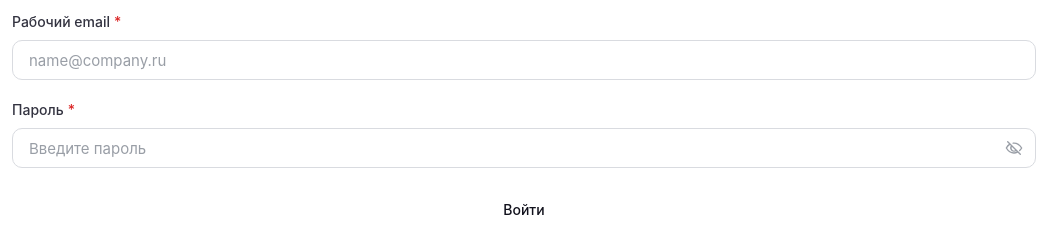
LoginForm — server errors › кнопка Войти показывает loading во время submit
Type "user@example.com" into the field labelled "Рабочий email *" at (524, 60), box 12,40 -> 1036,80
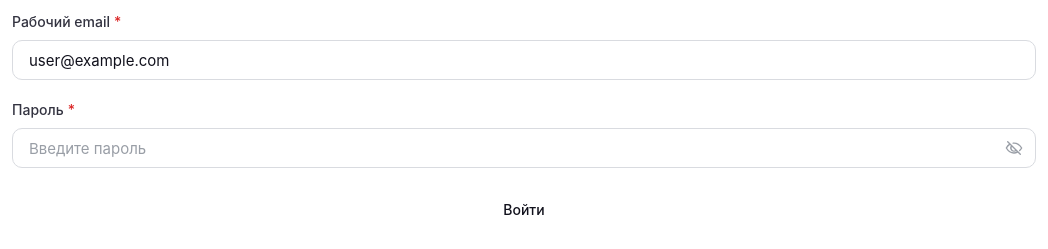
Type "validpass" into the password field labelled "Пароль *" at (524, 148), box 12,128 -> 1036,168
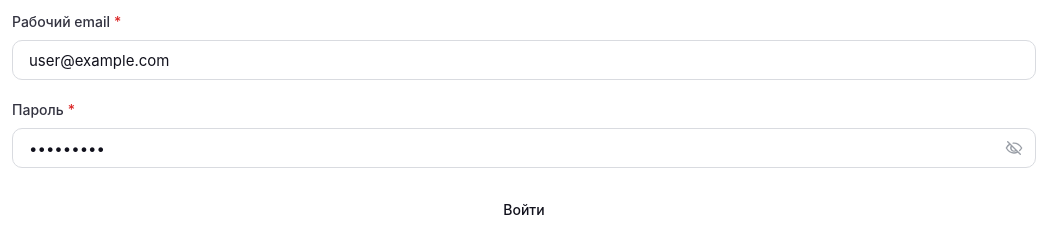
Submit the form labelled "Рабочий email * Пароль * Войти"
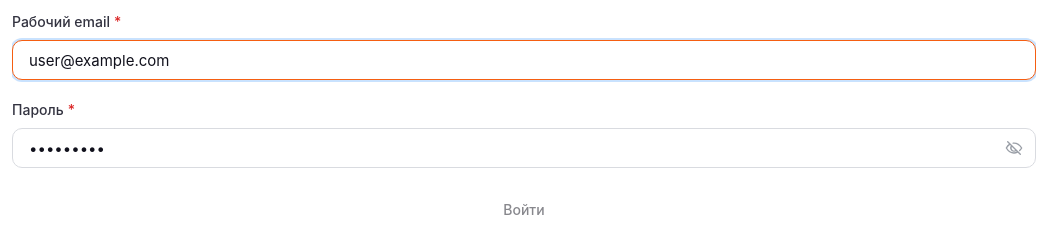
Check: the button "Войти" is disabled, box 12,188 -> 1036,232
